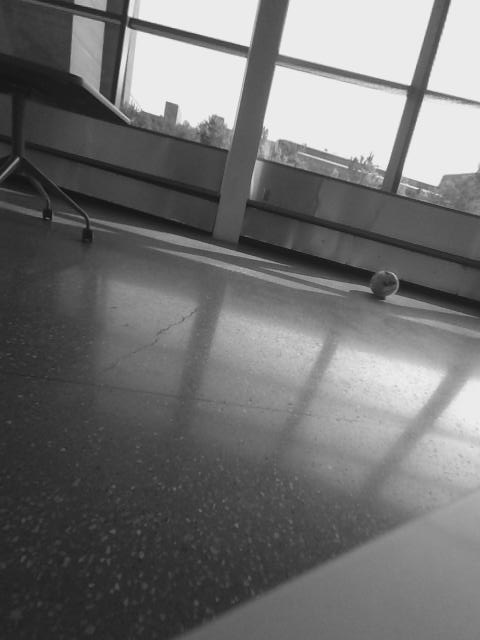ball: (368, 268, 400, 300)
